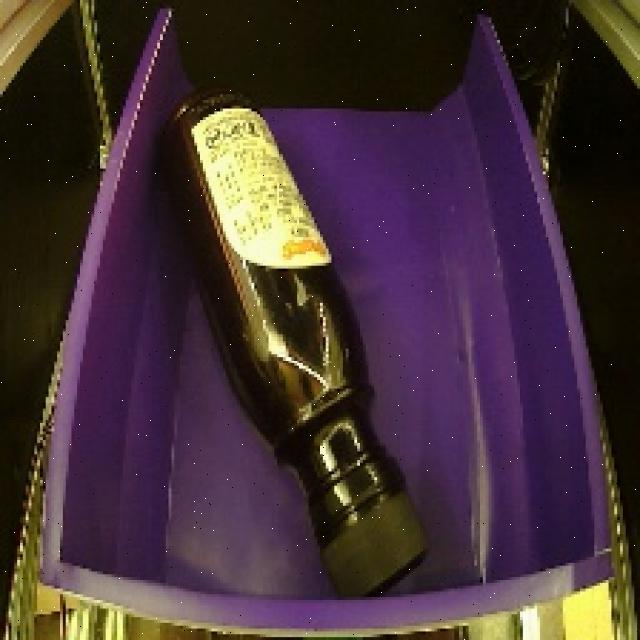plastic: (130, 73, 447, 610)
